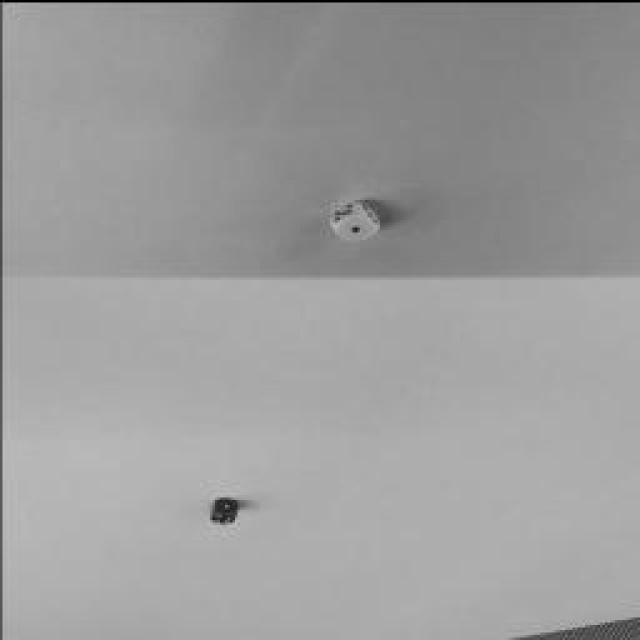dice_1: (335, 212, 375, 240)
dice_4: (208, 511, 234, 521)
